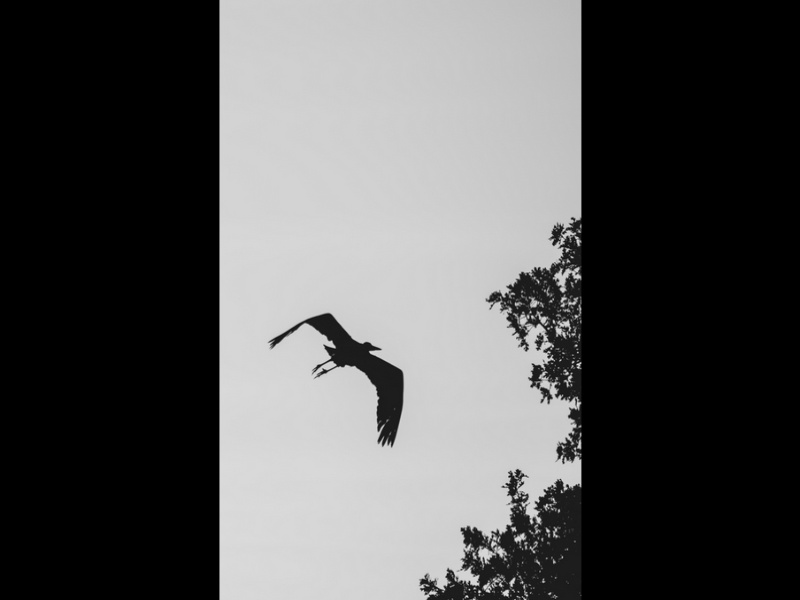heron: (269, 306, 406, 451)
